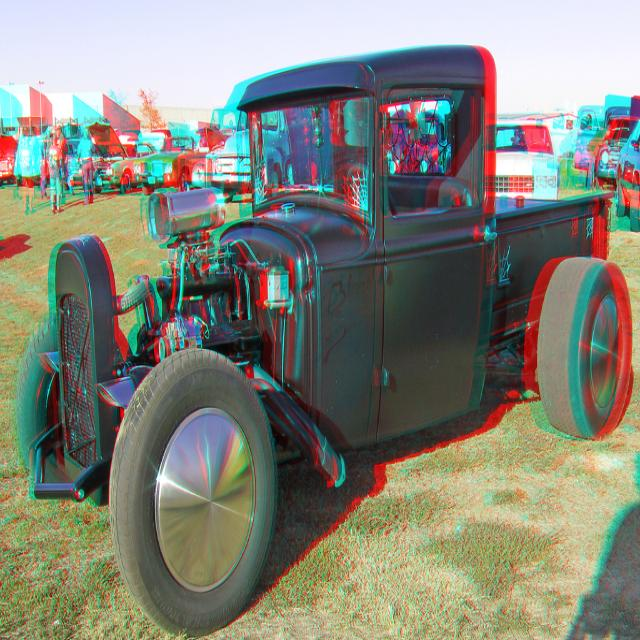car: (16, 46, 634, 638)
